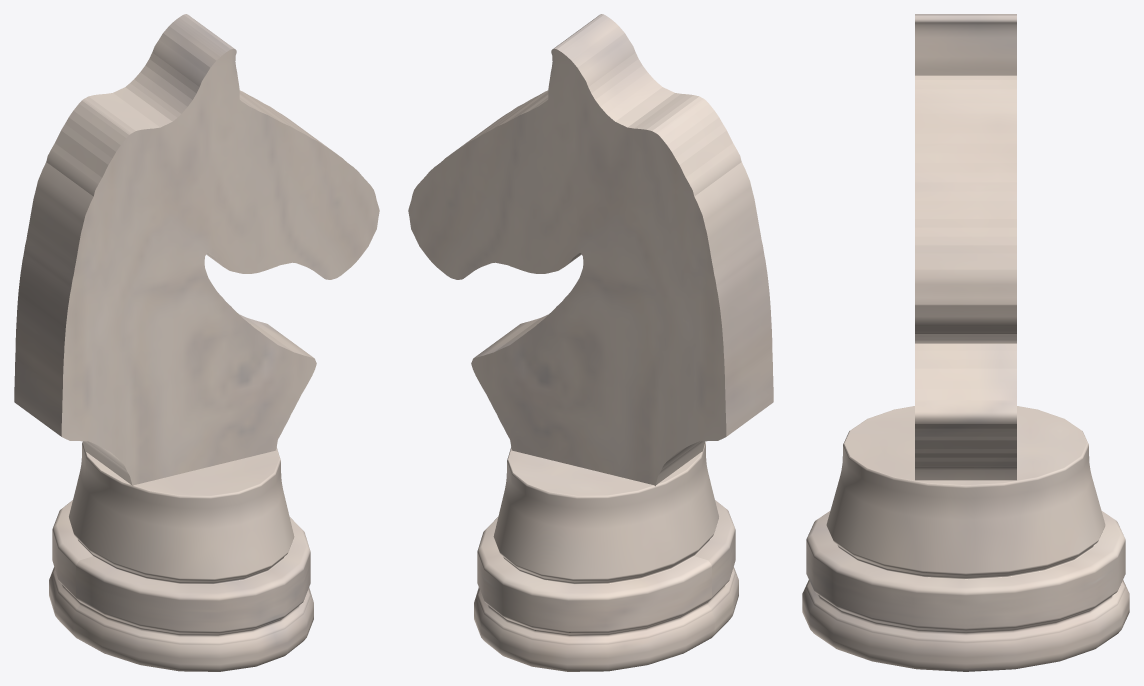
The model's file is knight.obj.
3 views of the same model, side by side, from view 1: azimuth 30°, elevation 25°; view 2: azimuth 150°, elevation 25°; view 3: azimuth 270°, elevation 25° (orthographic). The views are drawn at different scales.
Parts seen in each view (by area): view 1: chessKitExport; view 2: chessKitExport; view 3: chessKitExport.
Boxes of the visible parts, x1,y1,x2,y2 form: chessKitExport: (14, 14, 379, 671); chessKitExport: (408, 14, 773, 671); chessKitExport: (802, 14, 1129, 671).
Bounding box in the file's own units: 4.2 × 7.24 × 3.49.
